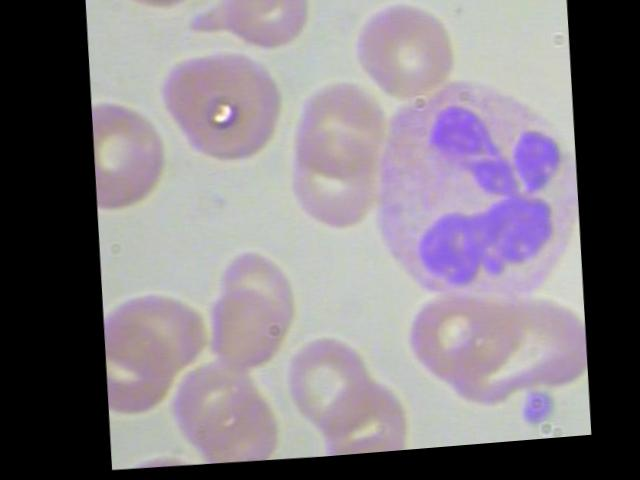Platelets: (507, 392, 554, 446)
Red Blood Cells: (148, 40, 289, 178), (270, 325, 375, 449), (350, 0, 459, 119), (154, 351, 263, 462), (283, 137, 381, 250), (87, 90, 167, 224), (97, 282, 204, 379), (183, 0, 313, 66), (106, 0, 215, 19), (495, 0, 567, 4)
White Blood Cells: (351, 64, 582, 333)
